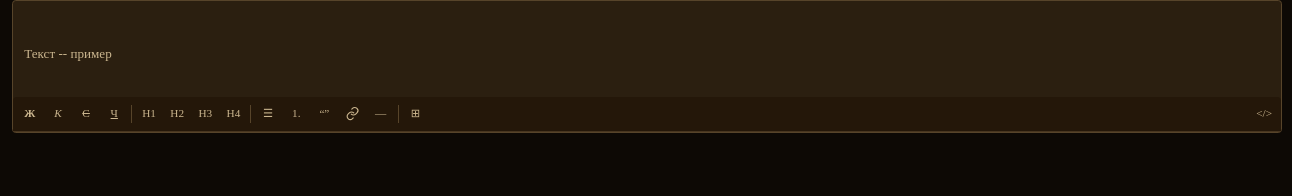
Test: RichTextEditor › preserves double hyphens in loaded content and Markdown source
Check: the field named "Поле" reads "Текст -- пример", box [24,46,112,61]
Click the button titled "Показать код". click: (1264, 114)
box: [1251,101,1277,127]
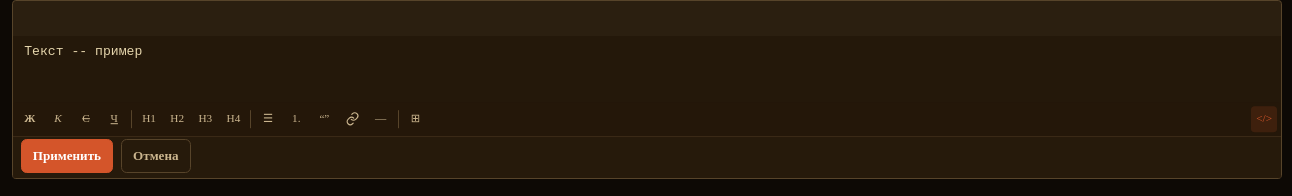
Check: the text box showing "Текст -- пример" is shown, box [13,36,1281,126]
Click the button "Применить". click: (67, 156)
box: [20,139,113,173]
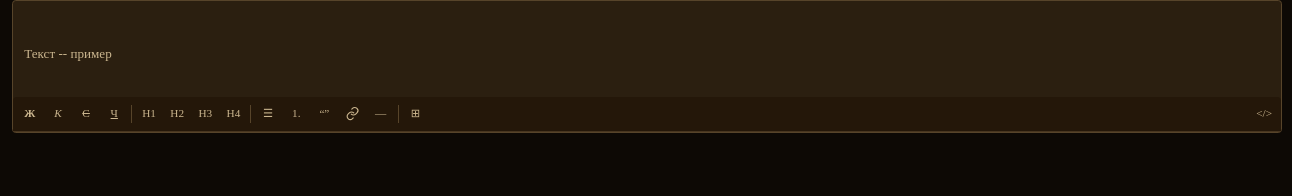
Check: the field named "Поле" reads "Текст -- пример", box [24,46,112,61]
